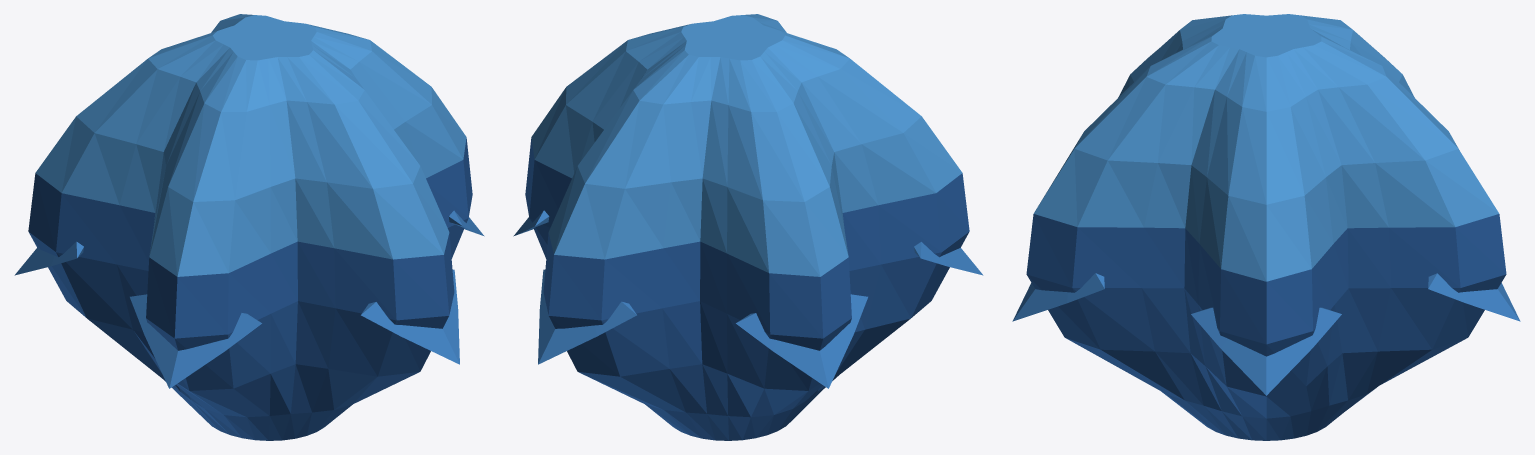
The model's file is BlueMapleLeaves.glb.
The picture shows the model from 3 angles, left to right: view 1: azimuth 30°, elevation 25°; view 2: azimuth 150°, elevation 25°; view 3: azimuth 270°, elevation 25°; orthographic projection.
Parts seen in each view (by area): view 1: BlueMapleLeaves_BlueMapleCrown, BlueMapleLeaves_BlueMapleFoliage, BlueMapleLeaves_BlueMapleLeafTips; view 2: BlueMapleLeaves_BlueMapleCrown, BlueMapleLeaves_BlueMapleFoliage, BlueMapleLeaves_BlueMapleLeafTips; view 3: BlueMapleLeaves_BlueMapleCrown, BlueMapleLeaves_BlueMapleFoliage, BlueMapleLeaves_BlueMapleLeafTips.
Part boxes in pixels (<box>): BlueMapleLeaves_BlueMapleCrown: <box>35,14,466,276</box>; BlueMapleLeaves_BlueMapleFoliage: <box>28,138,472,440</box>; BlueMapleLeaves_BlueMapleLeafTips: <box>14,210,484,388</box>; BlueMapleLeaves_BlueMapleCrown: <box>531,14,962,276</box>; BlueMapleLeaves_BlueMapleFoliage: <box>525,138,969,440</box>; BlueMapleLeaves_BlueMapleLeafTips: <box>513,210,983,388</box>; BlueMapleLeaves_BlueMapleCrown: <box>1033,14,1499,281</box>; BlueMapleLeaves_BlueMapleFoliage: <box>1026,214,1506,440</box>; BlueMapleLeaves_BlueMapleLeafTips: <box>1012,273,1520,395</box>.
Bounding box in the file's own units: 3.08 × 2.8 × 3.4.
